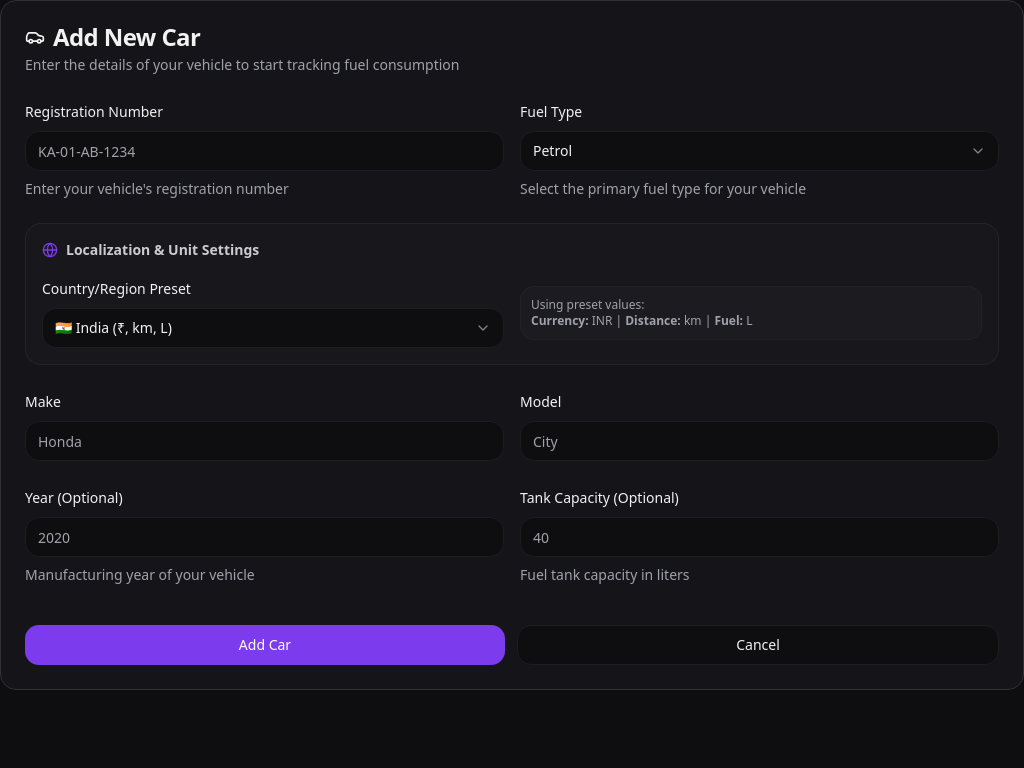
CarForm › should show validation errors for invalid data
Click the button "Add Car". click: (265, 645)
box: [25,625,505,665]
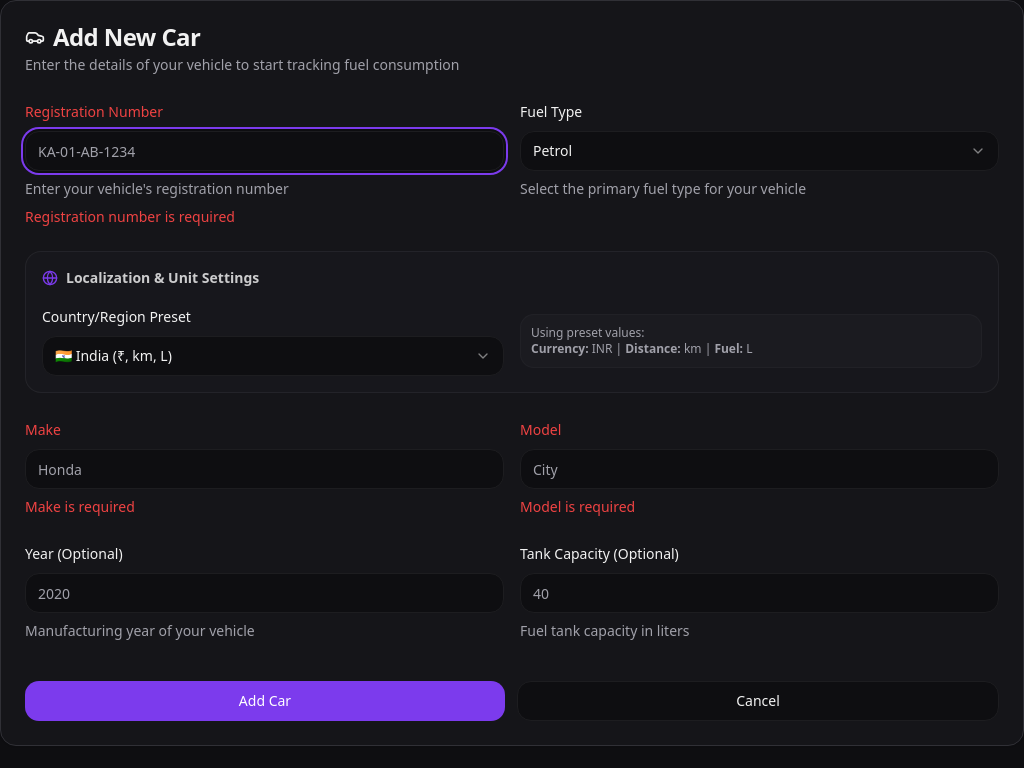
Check: the text "Registration number is required" is shown, box [25,207,235,226]
Check: the text "Make is required" is shown, box [25,497,135,516]
Check: the text "Model is required" is shown, box [520,497,635,516]
